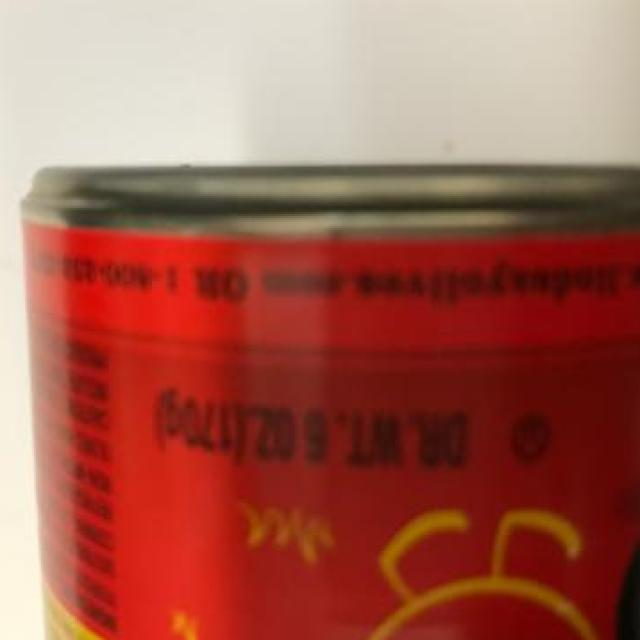organic: (14, 156, 623, 631)
